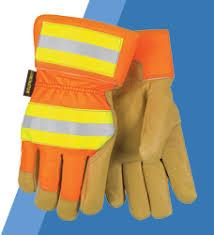gloves: (16, 14, 138, 222), (105, 29, 197, 221)
